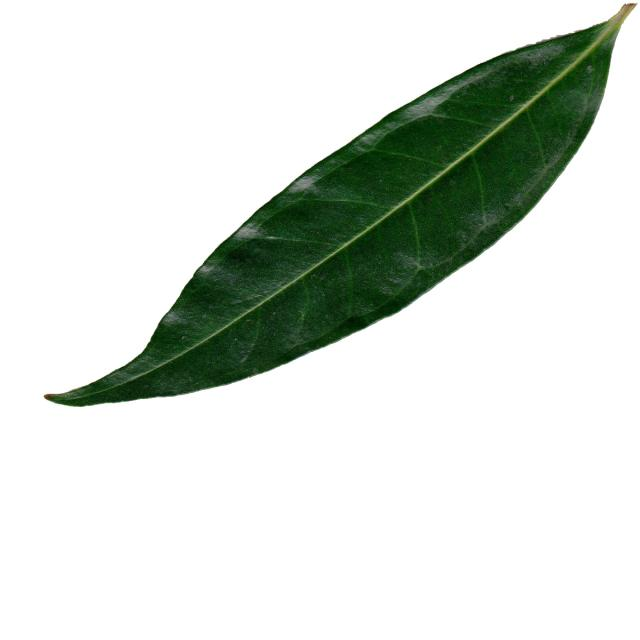Medicinal-Rose Apple: (43, 1, 640, 412)
